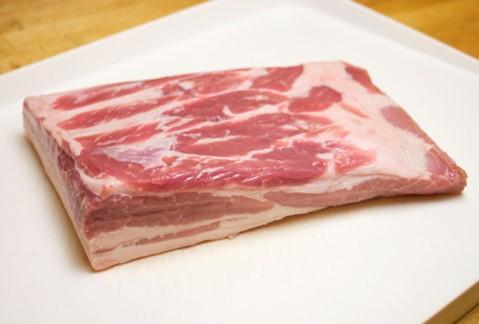bacon: (16, 66, 460, 232)
